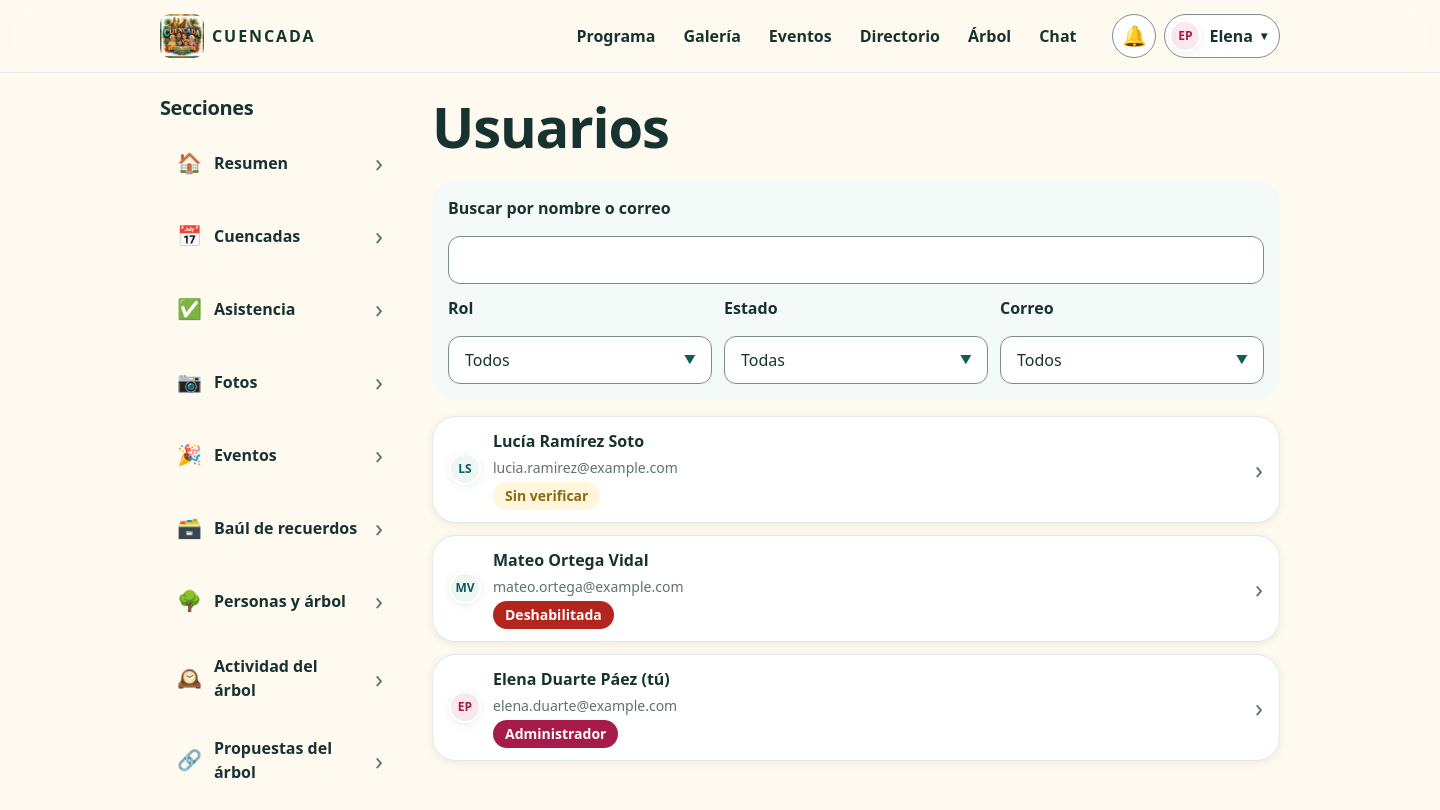
Test: UsersPage › shows the server's Spanish message for the per-account change limit (429)
The image size is (1440, 810).
Click the button "Lucía Ramírez Soto" at (465, 469), box top-left (432, 416), bottom-right (1280, 523)
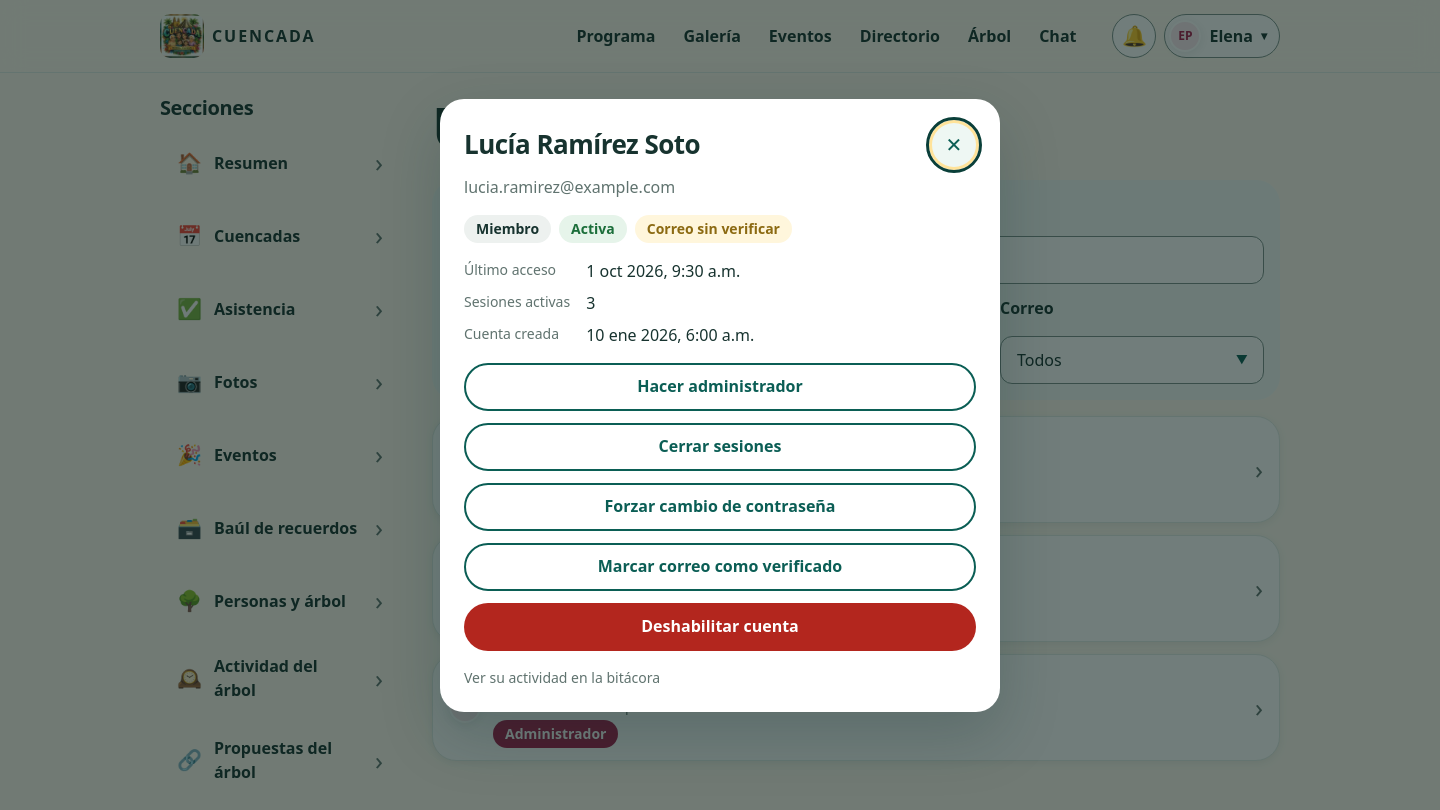
Click the button "Deshabilitar cuenta" at (720, 626), box top-left (464, 602), bottom-right (976, 650)
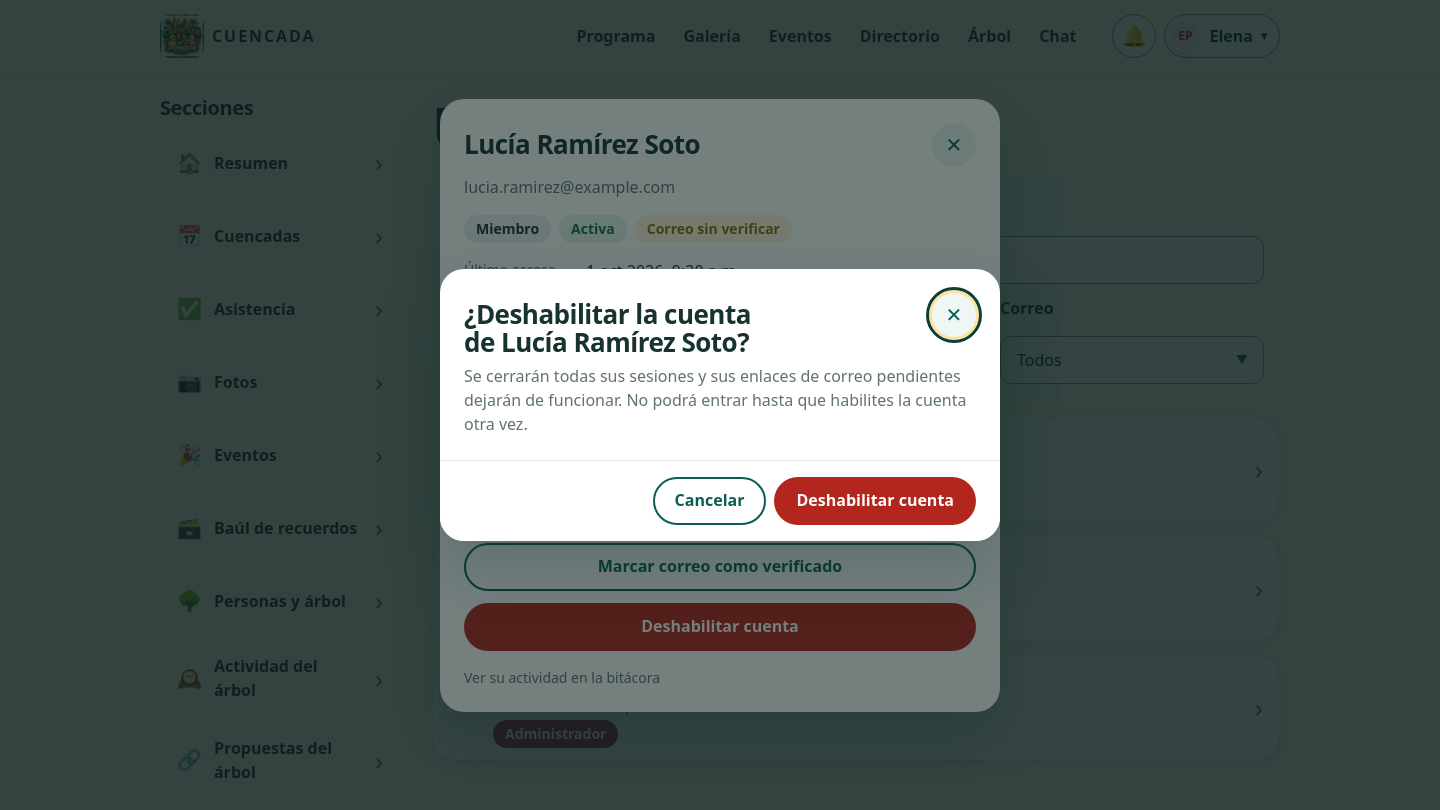
Click the button "Deshabilitar cuenta" at (875, 501), box top-left (774, 477), bottom-right (976, 525)
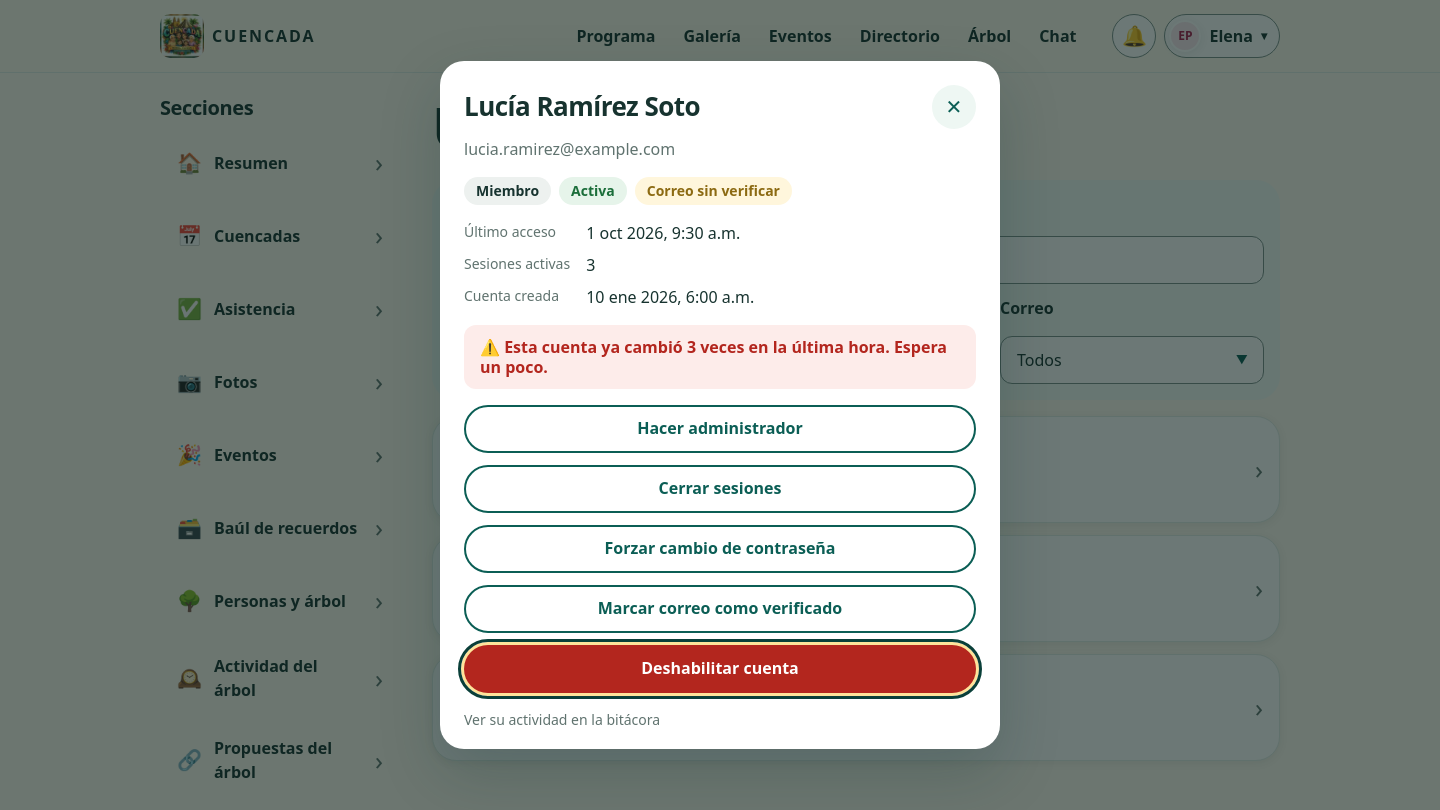
Expected: the text "Esta cuenta ya cambió 3 veces en la última hora. Espera un poco." is shown, top-left (480, 336), bottom-right (947, 378)
